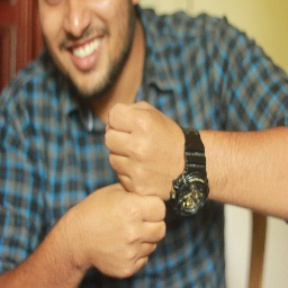G: (87, 94, 191, 280)
